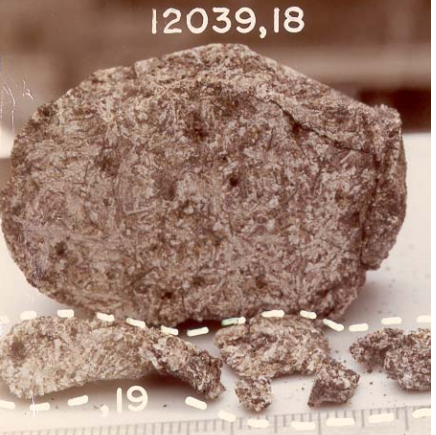Basalt: (0, 37, 401, 303), (72, 128, 337, 293), (5, 321, 218, 405), (206, 326, 360, 413), (351, 337, 435, 391)
